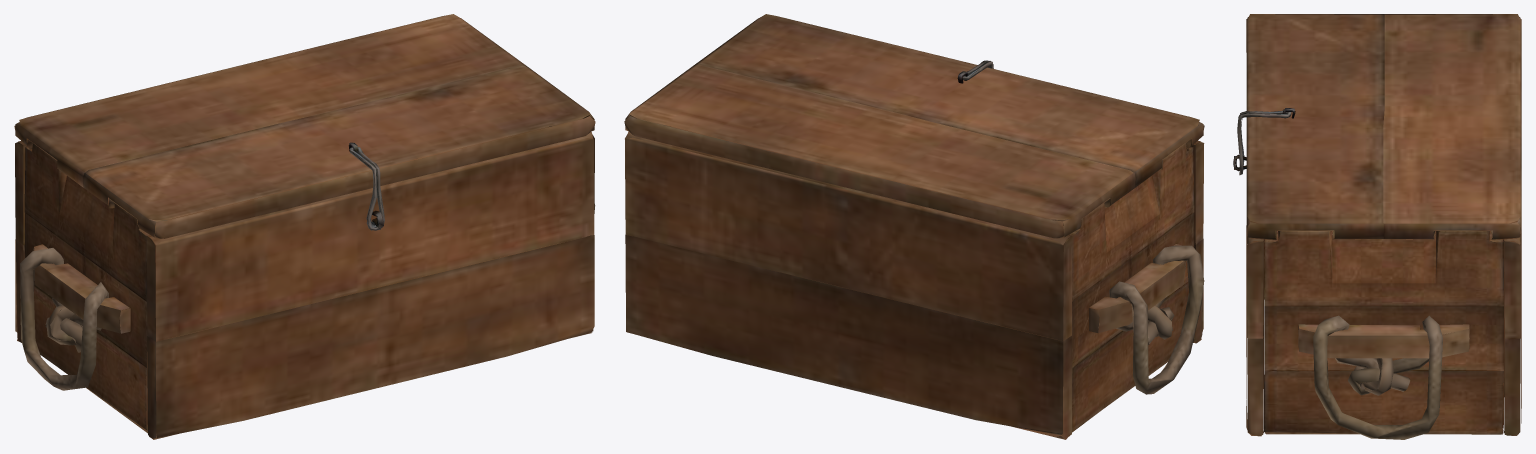
File: wood_crate.glb
The picture shows the model from 3 angles, left to right: view 1: azimuth 30°, elevation 25°; view 2: azimuth 150°, elevation 25°; view 3: azimuth 270°, elevation 25°; orthographic projection. The views are drawn at different scales.
Parts seen in each view (by area): view 1: wooden_crate_01; view 2: wooden_crate_01; view 3: wooden_crate_01.
Part boxes in pixels (x1,y1,x2,y2): wooden_crate_01: [14, 14, 595, 439]; wooden_crate_01: [624, 14, 1204, 439]; wooden_crate_01: [1233, 14, 1521, 439].
Bounding box in the file's own units: 0.8202 × 0.3482 × 0.4076.
1 material, 1 textured.
